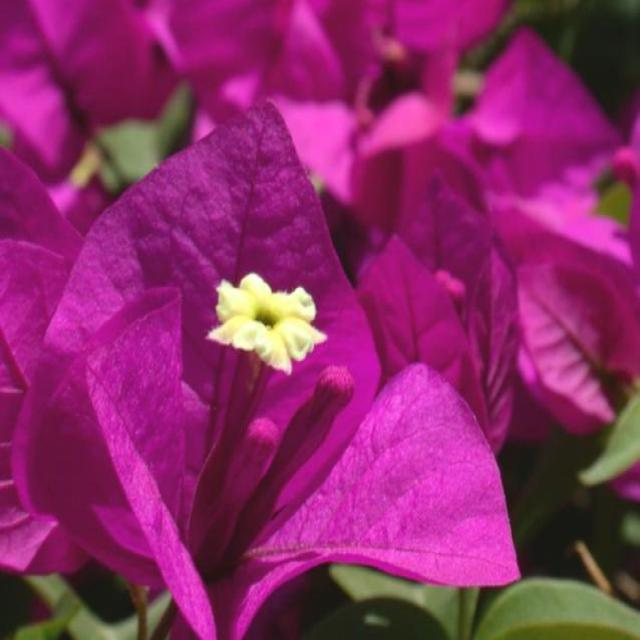bougainvillea: (10, 10, 640, 640)
